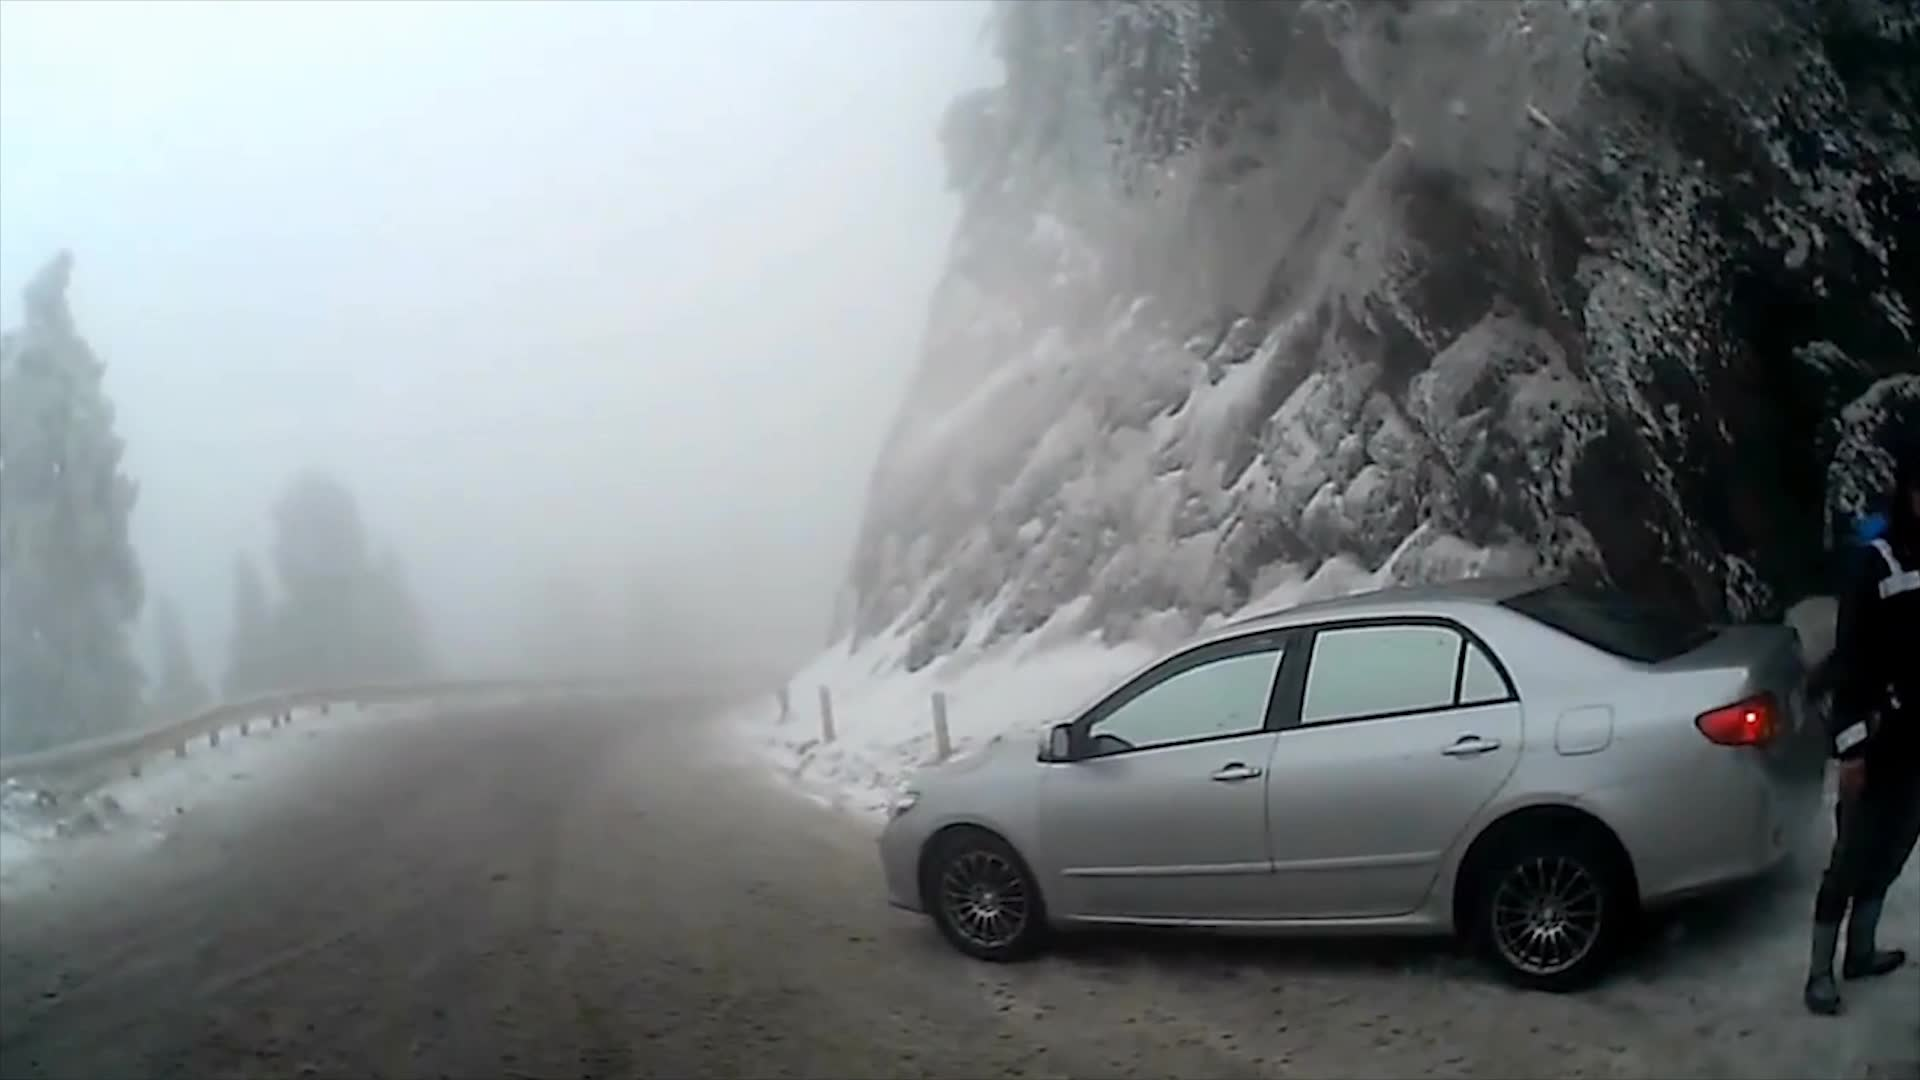pedestrian: (1803, 459, 1920, 1018)
vehicle: (876, 575, 1825, 993)
